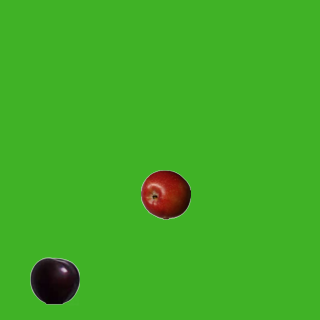Apple Braeburn: (140, 169, 190, 219)
Cherry Wax Black: (29, 255, 79, 305)
